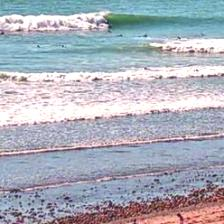surfer: (138, 33, 148, 37), (102, 20, 110, 25), (200, 32, 209, 36), (177, 36, 185, 40), (0, 31, 5, 36), (116, 34, 124, 37), (106, 30, 112, 34), (144, 67, 150, 70), (61, 45, 66, 48), (37, 45, 40, 49)
